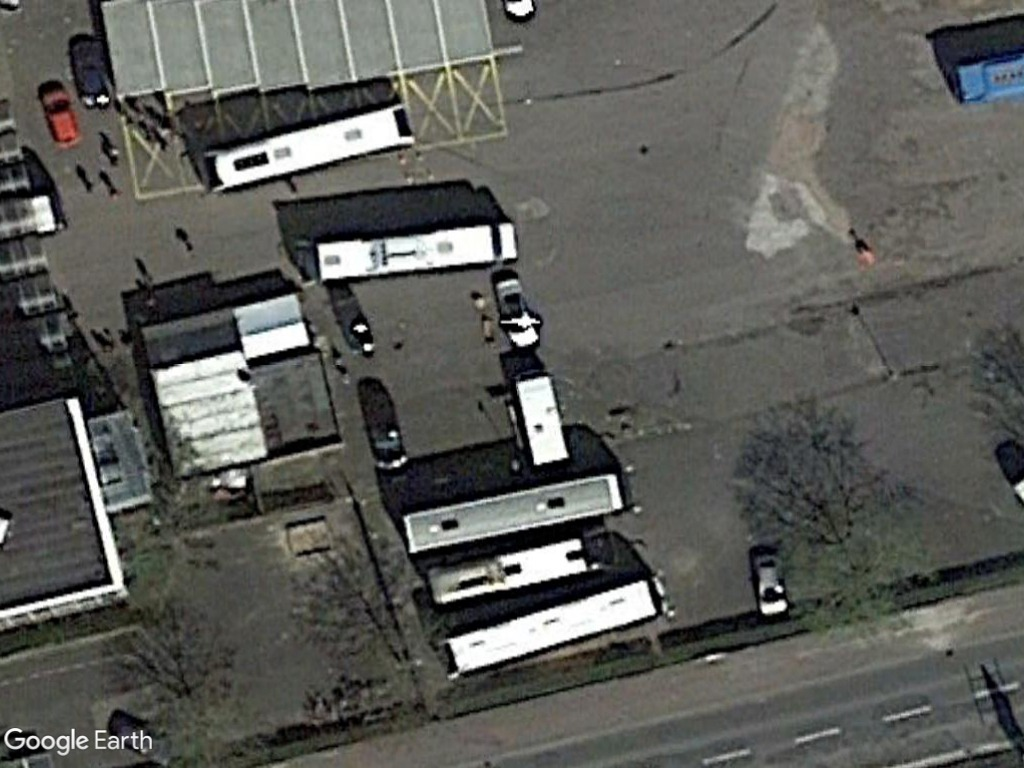bus: (436, 571, 673, 682), (193, 101, 415, 196), (395, 467, 631, 556), (302, 216, 525, 288), (424, 534, 593, 612)
car: (39, 86, 83, 151)
